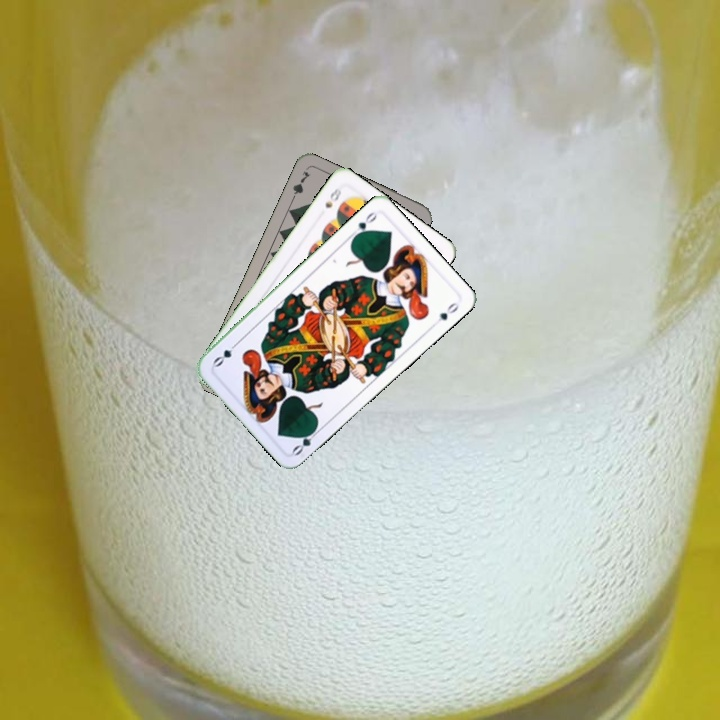G7: (287, 167, 313, 205)
GO: (288, 423, 323, 458), (346, 207, 379, 241)
S8: (321, 183, 344, 211)
